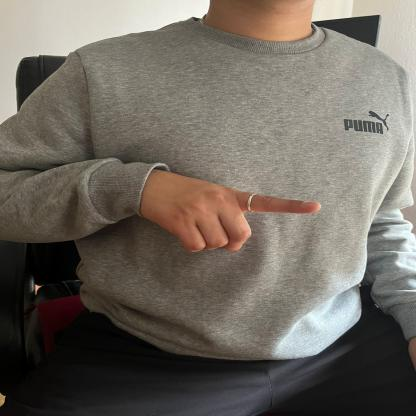S: (129, 162, 321, 264)
